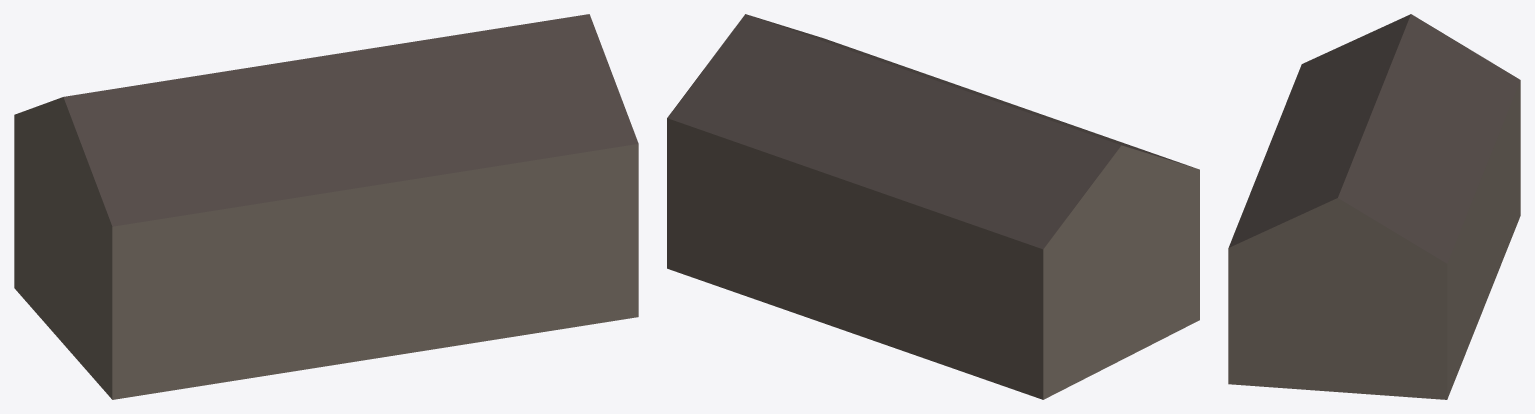
3 renders of one model, left to right at view 1: azimuth 30°, elevation 25°; view 2: azimuth 150°, elevation 25°; view 3: azimuth 270°, elevation 25°, orthographic. The views are drawn at different scales.
Visible parts, largest first — view 1: HP-w859082553; view 2: HP-w859082553; view 3: HP-w859082553.
Boxes of the visible parts, box(x1,y1,x2,y2) form: HP-w859082553: box(14, 14, 638, 399); HP-w859082553: box(667, 14, 1199, 399); HP-w859082553: box(1228, 14, 1520, 399).
Size of the model in its own units: 18.87 by 8.56 by 11.66.
